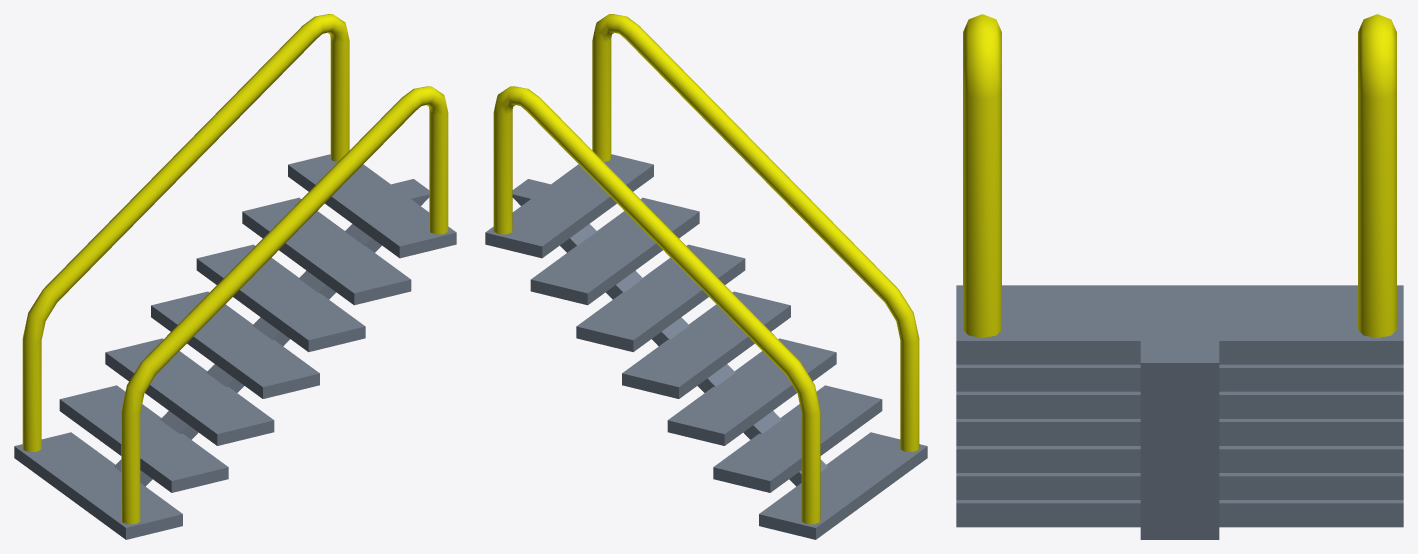
The model's file is Ladder_01.fbx.
The picture shows the model from 3 angles, left to right: view 1: azimuth 30°, elevation 25°; view 2: azimuth 150°, elevation 25°; view 3: azimuth 270°, elevation 25°; orthographic projection. The views are drawn at different scales.
Visible parts, largest first — view 1: Ladder_01; view 2: Ladder_01; view 3: Ladder_01.
Part boxes in pixels (bbox=[...]): Ladder_01: bbox=[14, 14, 456, 539]; Ladder_01: bbox=[485, 14, 927, 539]; Ladder_01: bbox=[956, 14, 1403, 539].
Bounding box in the file's own units: 3.1 × 3.23 × 1.7.
